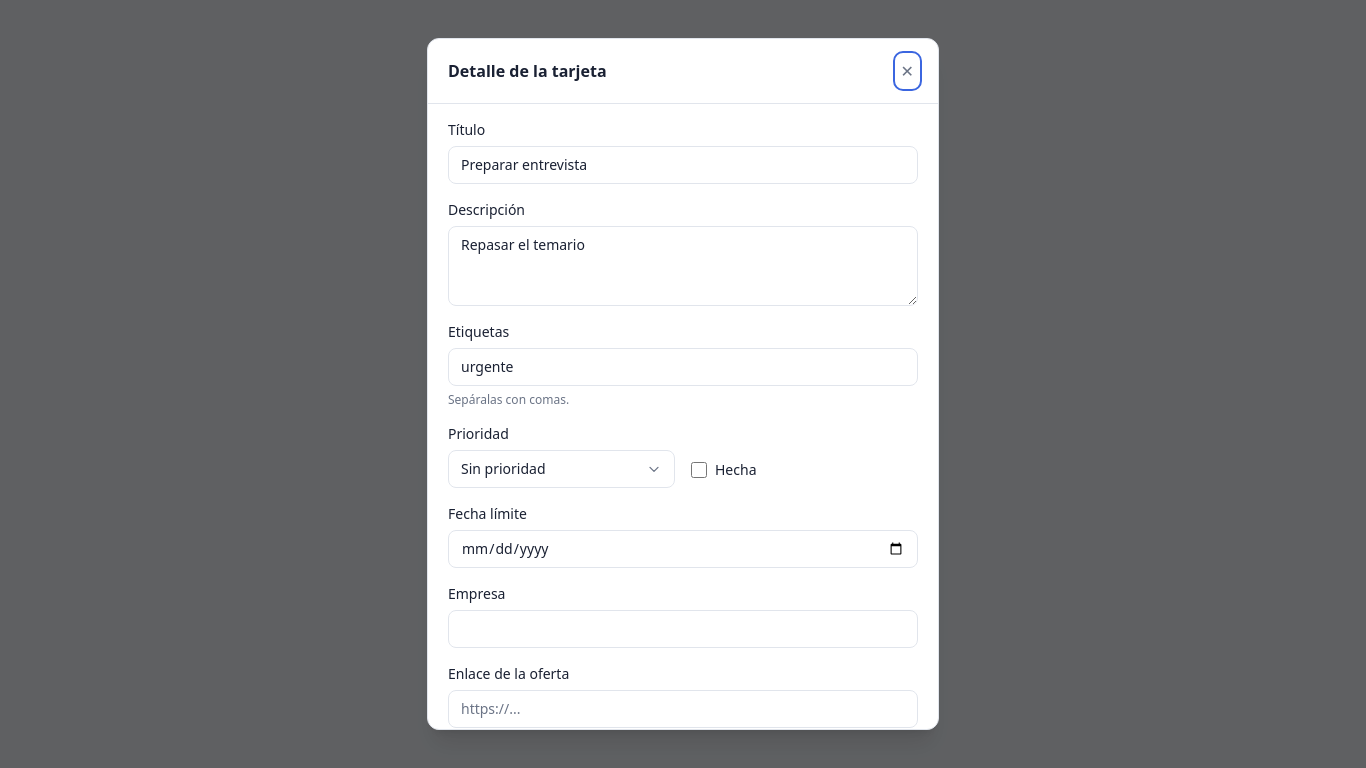
CardDetailModal › en la plantilla de candidaturas muestra empresa y valida la URL de la oferta
Expected: the field labelled "Empresa" is shown, left=448, top=610, right=918, bottom=648
Type "no-es-una-url" into the field labelled "Enlace de la oferta" at (683,709), box left=448, top=690, right=918, bottom=728
(page scrolled)
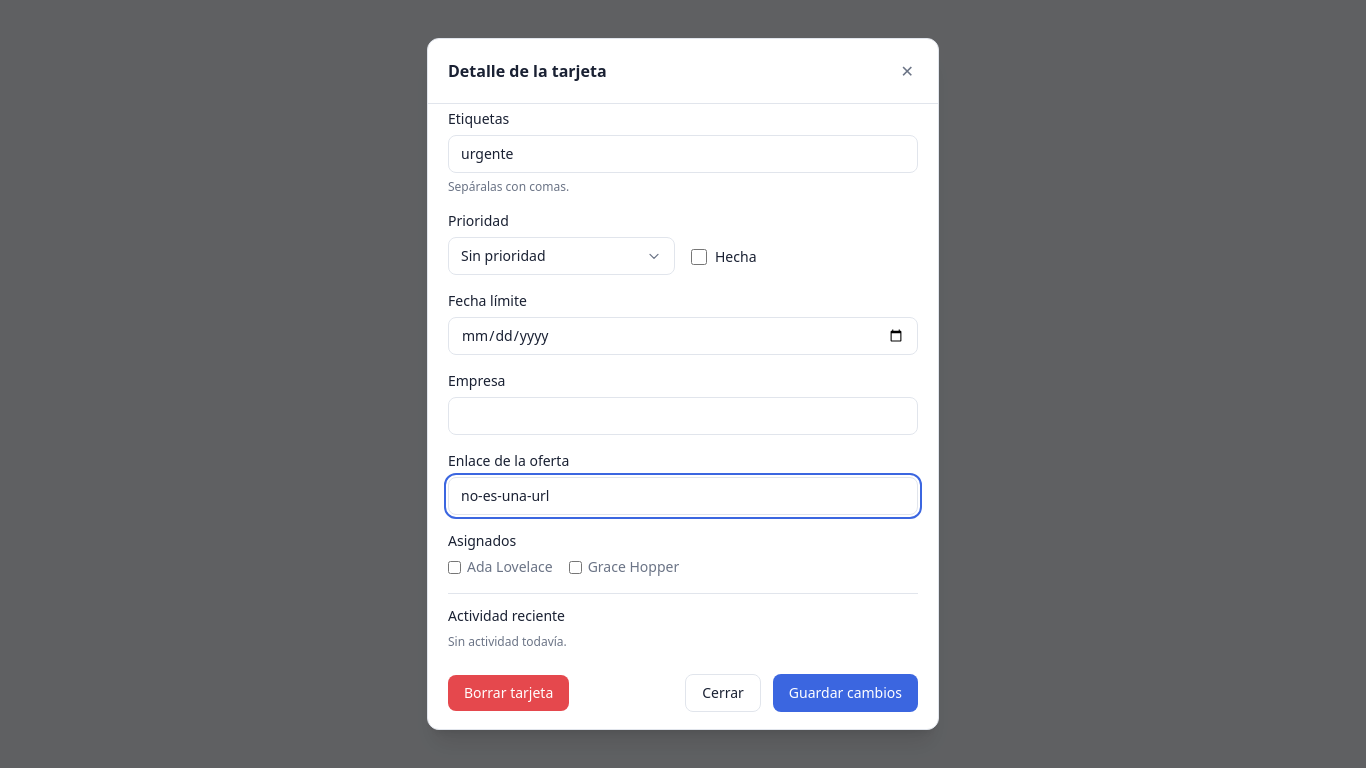
Click the button "Guardar cambios" at (845,693), box left=773, top=674, right=918, bottom=712
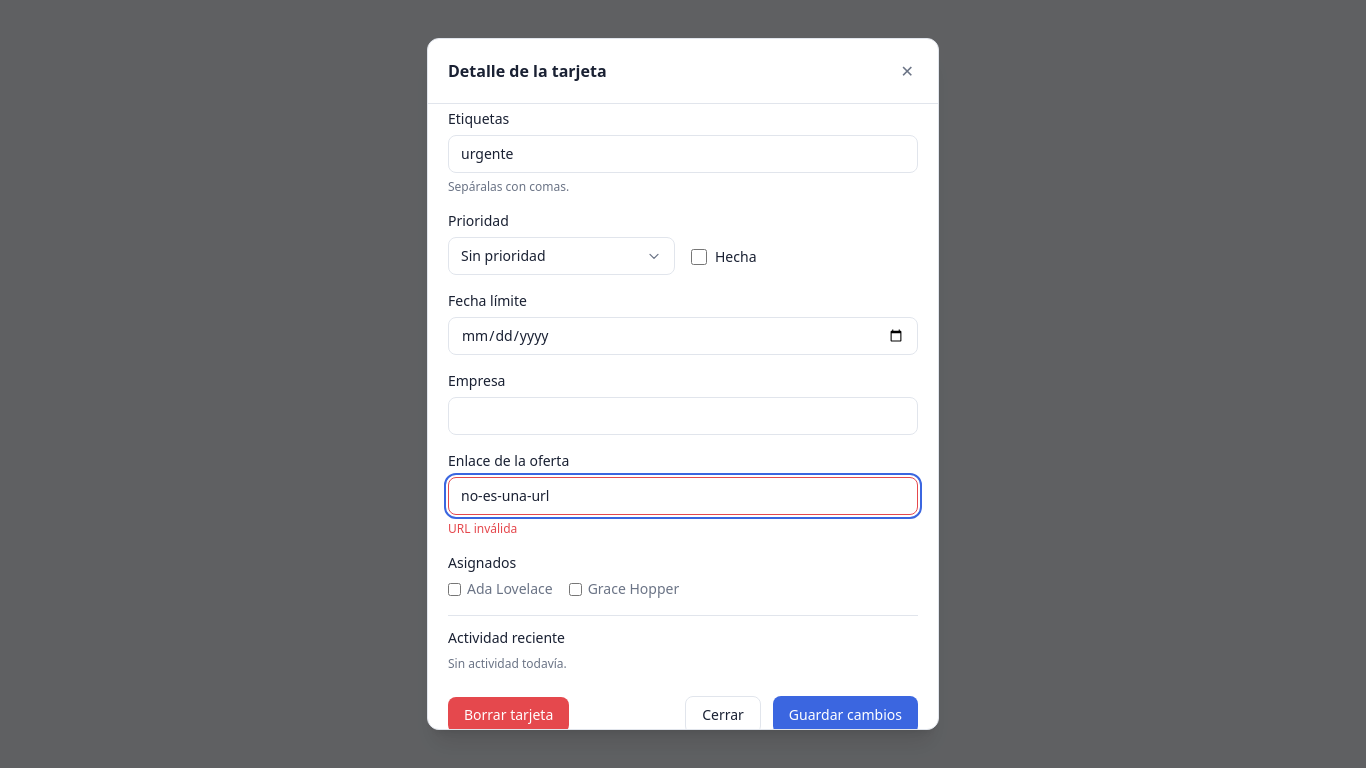
Expected: the text "URL inválida" is shown, left=448, top=520, right=517, bottom=537
